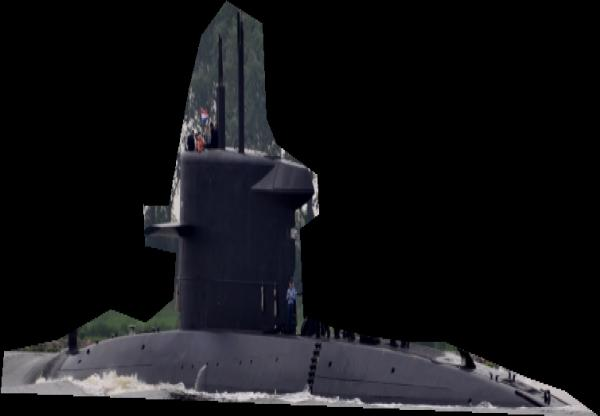Submarine: (0, 0, 599, 416)
